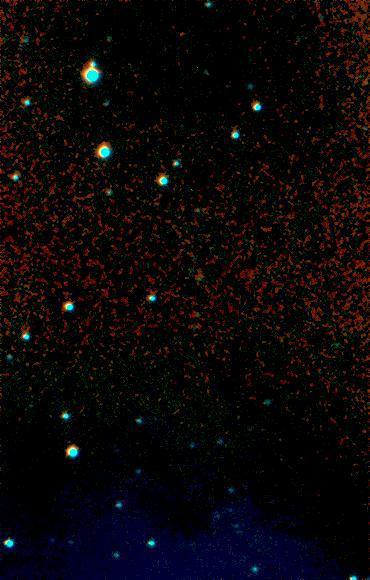star: (168, 19, 198, 49)
